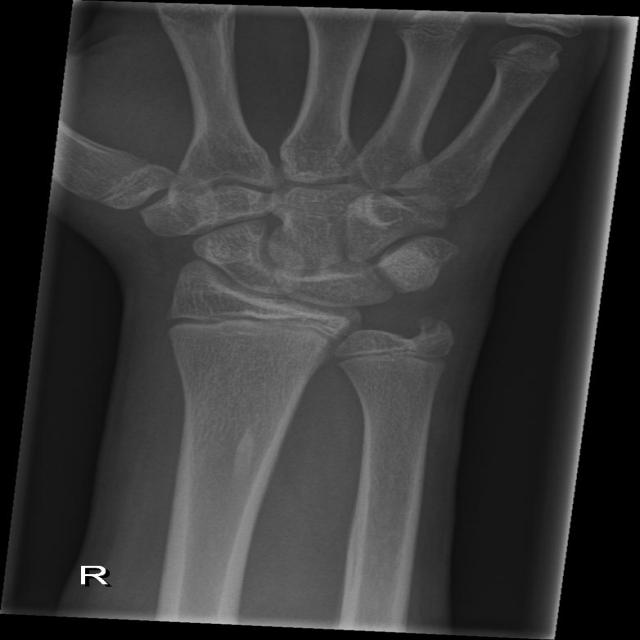fracture: (158, 299, 360, 351), (328, 334, 462, 376)
